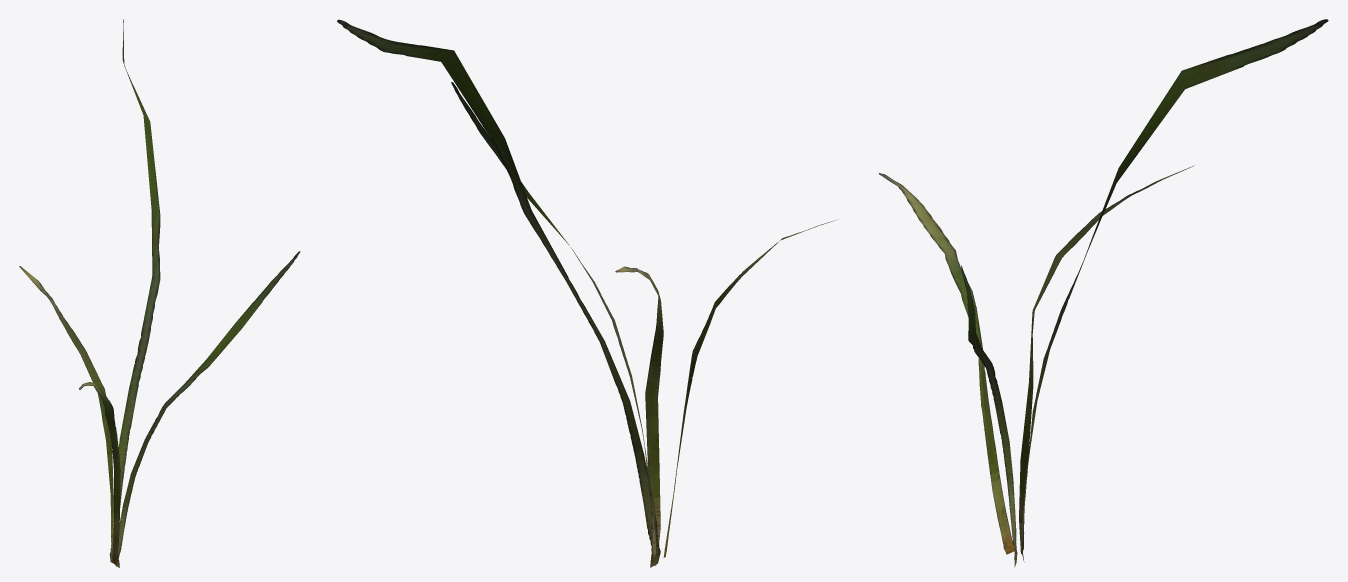
Rendered from grass-1-mid.glb.
3 views of the same model, side by side, from view 1: azimuth 30°, elevation 25°; view 2: azimuth 150°, elevation 25°; view 3: azimuth 270°, elevation 25° (orthographic). The views are drawn at different scales.
Parts seen in each view (by area): view 1: grass_medium_01_tiny_a_LOD0; view 2: grass_medium_01_tiny_a_LOD0; view 3: grass_medium_01_tiny_a_LOD0.
Boxes of the visible parts, x1=… form: grass_medium_01_tiny_a_LOD0: x1=19, y1=19, x2=300, y2=567; grass_medium_01_tiny_a_LOD0: x1=337, y1=19, x2=835, y2=567; grass_medium_01_tiny_a_LOD0: x1=879, y1=19, x2=1328, y2=567.
Size of the model in its own units: 0.0673 by 0.1125 by 0.0738.
1 material, 1 textured.
